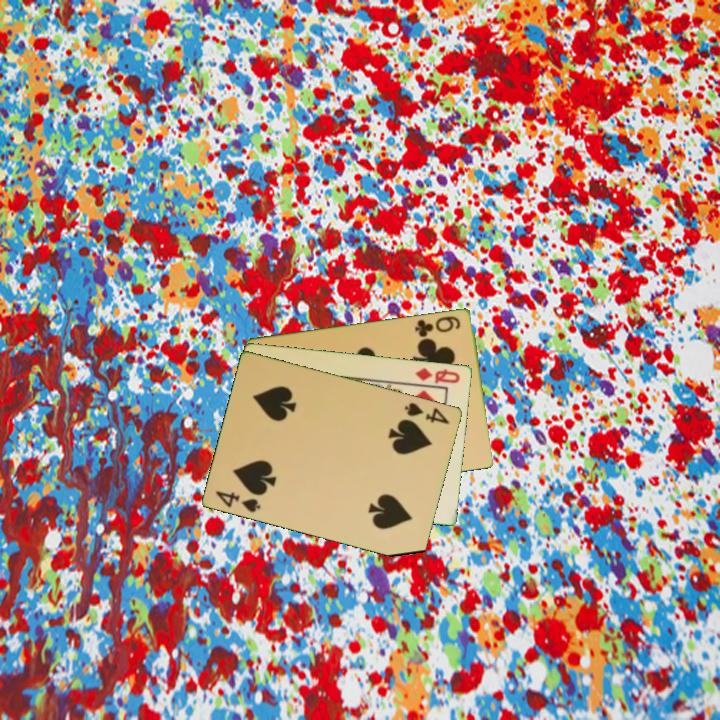4s: (401, 399, 453, 427), (213, 487, 264, 515)
6c: (411, 312, 464, 340)
Qd: (412, 364, 463, 386)
